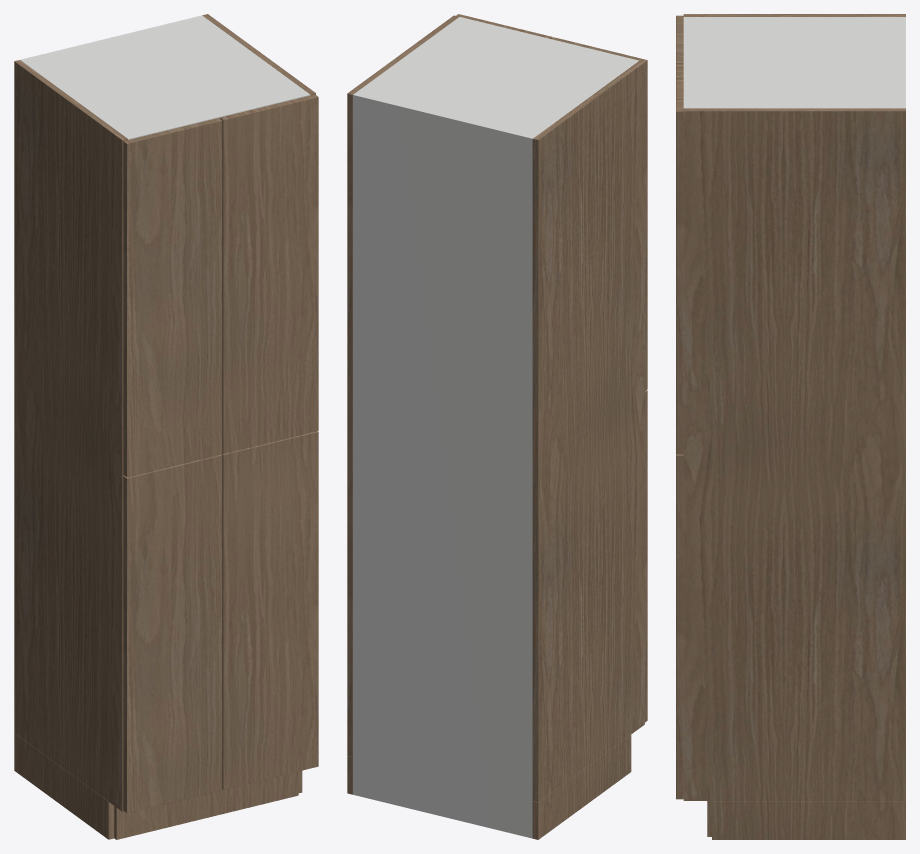
File: bvc-2072.glb
The picture shows the model from 3 angles, left to right: view 1: azimuth 30°, elevation 25°; view 2: azimuth 150°, elevation 25°; view 3: azimuth 270°, elevation 25°; orthographic projection. The views are drawn at different scales.
Visible parts, largest first — view 1: Cabinet side, Upper pantry door, Lower pantry door, Upper pantry door.001, Lower pantry door.001, Cabinet top, Recessed toe board, Recessed side plinth, Cabinet side.001; view 2: Cabinet back, Cabinet side, Cabinet top, Cabinet side.001, Recessed side plinth, Upper pantry door, Lower pantry door; view 3: Cabinet side.001, Cabinet top, Recessed side plinth.001, Upper pantry door.001, Lower pantry door.001, Cabinet side, Cabinet back.
Boxes of the visible parts, x1,y1,x2,y2 form: Cabinet side: (14, 60, 127, 811); Upper pantry door: (123, 118, 222, 477); Lower pantry door: (123, 454, 222, 813); Upper pantry door.001: (219, 94, 318, 453); Lower pantry door.001: (221, 431, 318, 789); Cabinet top: (22, 17, 310, 139); Recessed toe board: (114, 771, 298, 839); Recessed side plinth: (14, 733, 114, 839); Cabinet side.001: (202, 14, 315, 95); Cabinet back: (353, 93, 534, 838); Cabinet side: (532, 60, 644, 802); Cabinet top: (353, 17, 638, 139); Cabinet side.001: (347, 15, 458, 757); Recessed side plinth: (532, 735, 631, 839); Upper pantry door: (551, 37, 647, 390); Lower pantry door: (645, 390, 647, 722); Cabinet side.001: (683, 108, 905, 800); Cabinet top: (683, 17, 901, 108); Recessed side plinth.001: (712, 801, 905, 839); Upper pantry door.001: (676, 63, 683, 454); Lower pantry door.001: (676, 454, 683, 799); Cabinet side: (683, 14, 905, 16); Cabinet back: (901, 17, 905, 108).
Bounding box in the file's own units: 0.6096 × 2.13 × 0.6096.
Materials: 2 (1 with a texture image).
